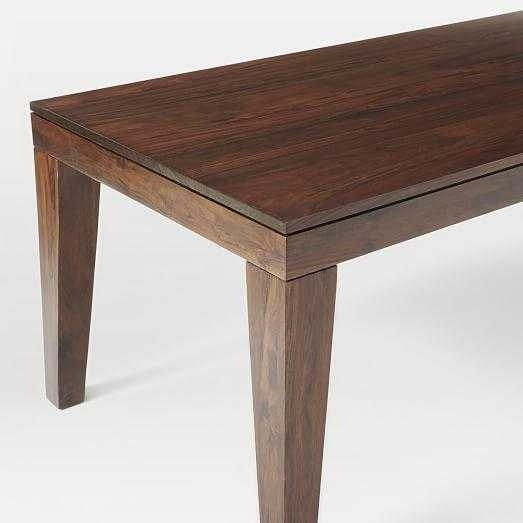obstacle: (31, 12, 522, 522)
